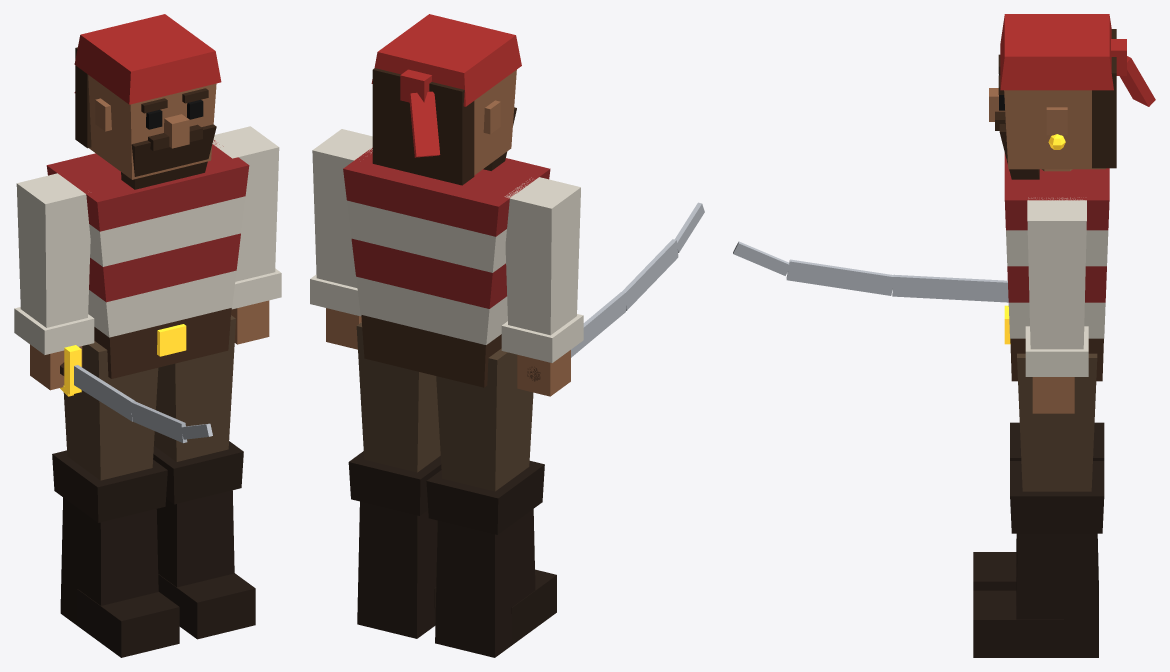
The model's file is Pirate_A.fbx.
The picture shows the model from 3 angles, left to right: view 1: azimuth 30°, elevation 25°; view 2: azimuth 150°, elevation 25°; view 3: azimuth 270°, elevation 25°; orthographic projection. The views are drawn at different scales.
Visible parts, largest first — view 1: Body, LegR, LegL, Head, ArmR, ArmL, Sword; view 2: Body, LegR, LegL, Head, ArmR, ArmL, Sword; view 3: LegL, Head, ArmL, Body, Sword, LegR.
Boxes of the visible parts, box(x1,y1,x2,y2) form: Body: box(46, 140, 249, 378); LegR: box(52, 341, 179, 657); LegL: box(153, 315, 255, 639); Head: box(74, 14, 221, 189); ArmR: box(14, 173, 94, 390); ArmL: box(212, 126, 281, 344); Sword: box(60, 345, 212, 443); Body: box(343, 148, 550, 387); LegR: box(426, 348, 556, 657); LegL: box(348, 322, 441, 638); Head: box(371, 14, 521, 185); ArmR: box(501, 177, 583, 396); ArmL: box(310, 129, 372, 349); Sword: box(527, 202, 704, 381); LegL: box(973, 353, 1104, 657); Head: box(989, 14, 1155, 179); ArmL: box(1025, 197, 1088, 413); Body: box(1004, 153, 1109, 381); Sword: box(733, 241, 1008, 302); LegR: box(973, 422, 1104, 618).
Bounding box in the file's own units: 0.81 × 1.86 × 1.21.
